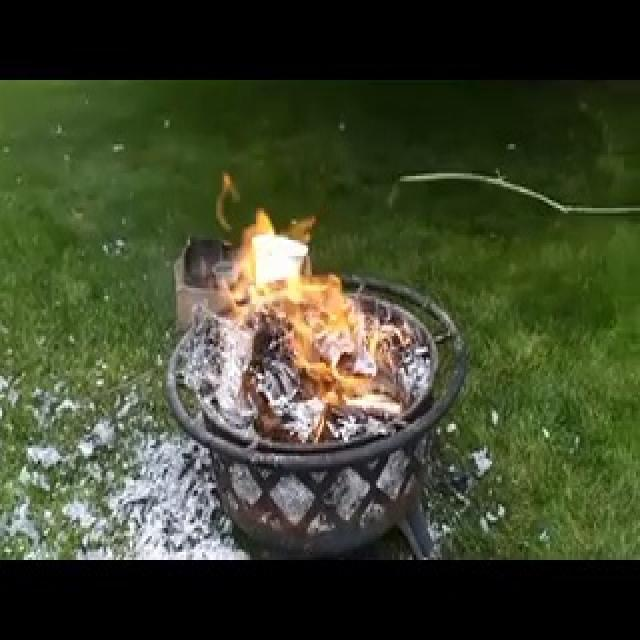fire: (152, 109, 398, 424)
